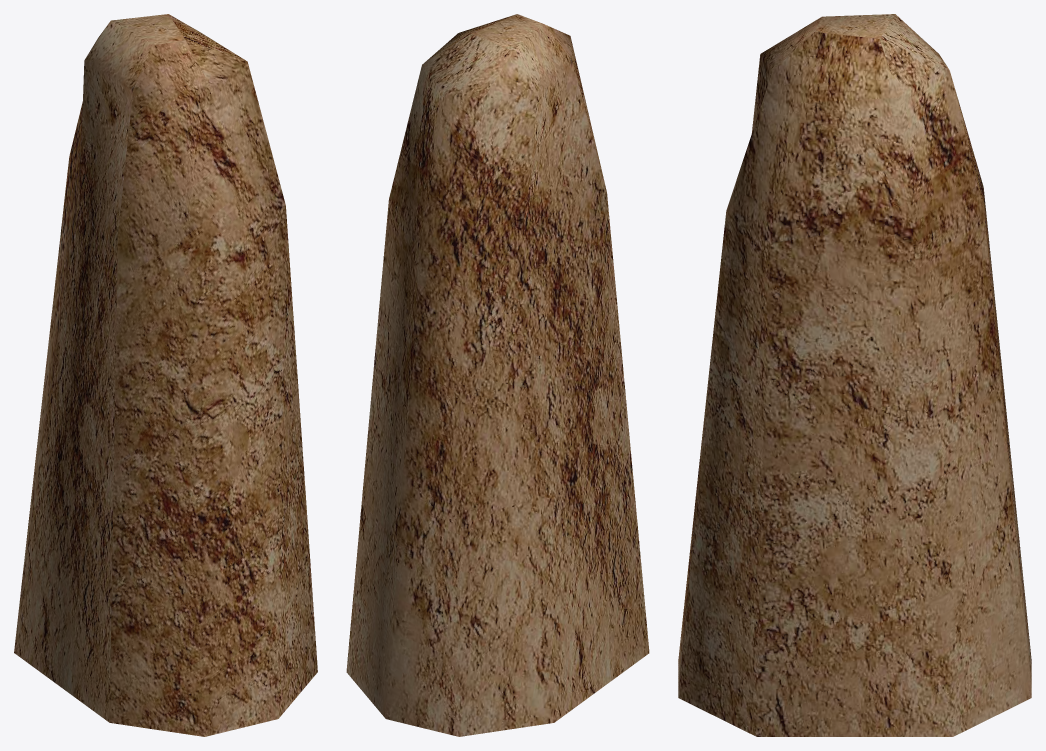
File: stone_weathered_3.glb
3 views of the same model, side by side, from view 1: azimuth 30°, elevation 25°; view 2: azimuth 150°, elevation 25°; view 3: azimuth 270°, elevation 25° (orthographic). The views are drawn at different scales.
Parts seen in each view (by area): view 1: stone_weathered_3; view 2: stone_weathered_3; view 3: stone_weathered_3.
Boxes of the visible parts, bbox=[...] form: stone_weathered_3: bbox=[14, 14, 317, 736]; stone_weathered_3: bbox=[346, 14, 649, 736]; stone_weathered_3: bbox=[678, 14, 1031, 736].
Bounding box in the file's own units: 4.52 × 13.2 × 6.47.
Materials: 1 (1 with a texture image).
